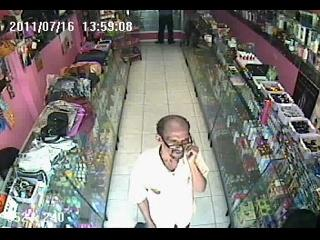Normal: (128, 114, 210, 228), (154, 10, 176, 44), (76, 50, 110, 66)
